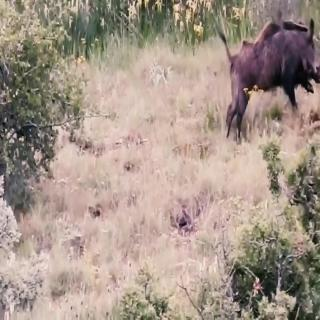Pig: (219, 15, 320, 150)
